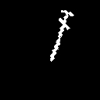double_crochet: (51, 10, 72, 60)
